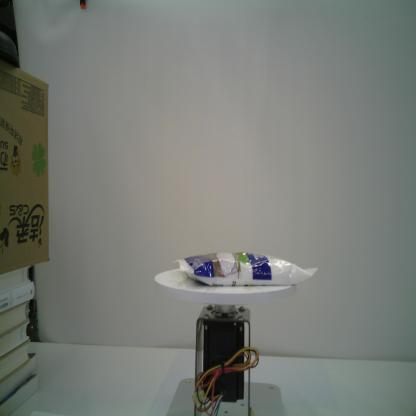Seasoner: (173, 251, 316, 287)
